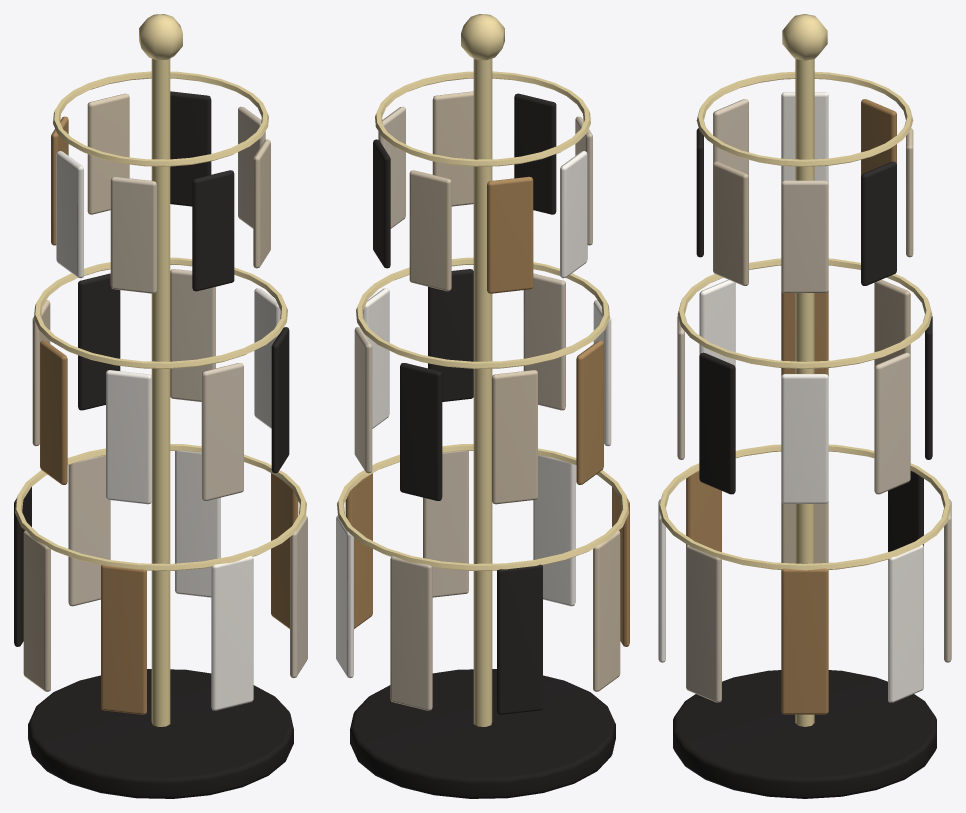
File: scarf_carousel.glb
3 views of the same model, side by side, from view 1: azimuth 30°, elevation 25°; view 2: azimuth 150°, elevation 25°; view 3: azimuth 270°, elevation 25° (orthographic).
Parts seen in each view (by area): view 1: scarf_carousel; view 2: scarf_carousel; view 3: scarf_carousel.
Part boxes in pixels (x1,y1,x2,y2): scarf_carousel: [14, 14, 307, 798]; scarf_carousel: [336, 14, 629, 798]; scarf_carousel: [658, 14, 951, 798].
Bounding box in the file's own units: 0.616 × 1.69 × 0.616.
